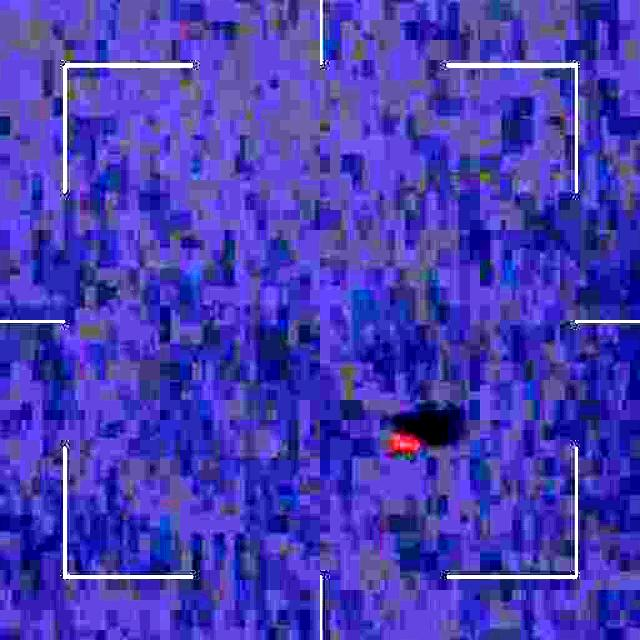bird: (390, 421, 420, 461)
